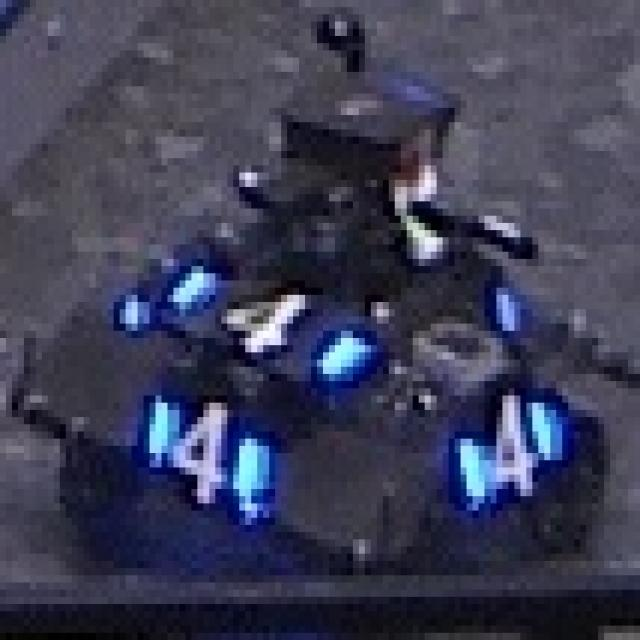B4: (138, 396, 269, 518), (449, 388, 568, 511)
